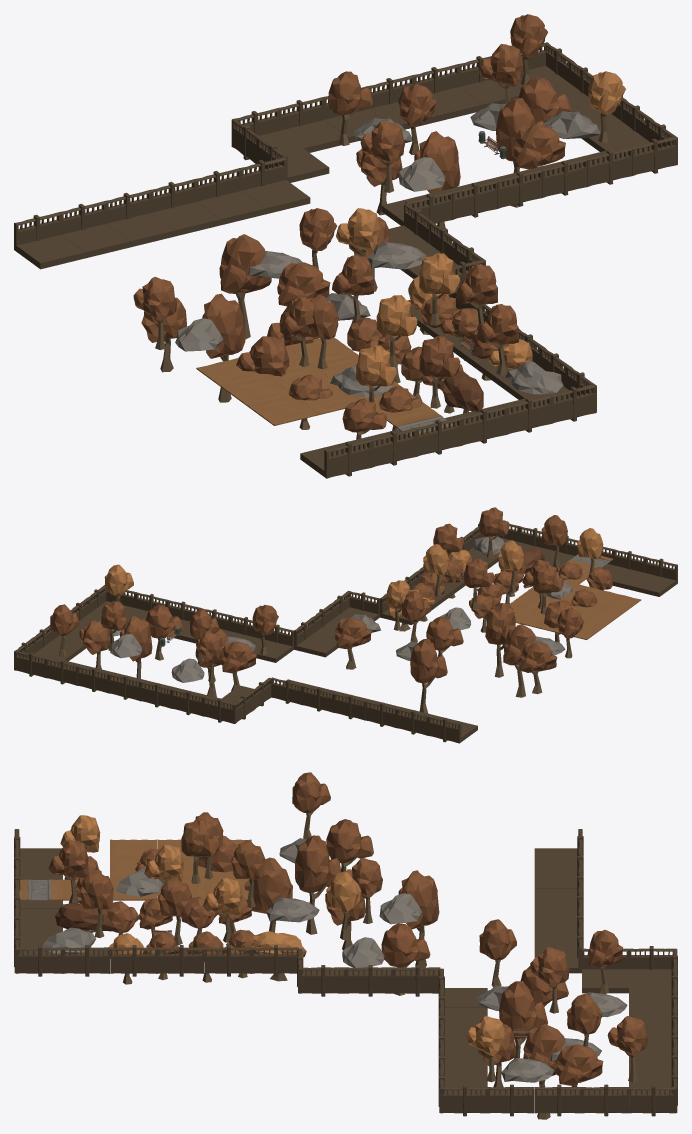
The model's file is PARK.fbx.
The picture shows the model from 3 angles, top to bottom: view 1: azimuth 30°, elevation 25°; view 2: azimuth 150°, elevation 25°; view 3: azimuth 270°, elevation 25°; orthographic projection. The views are drawn at different scales.
Parts seen in each view (by area): view 1: SM_Env_Bridge_Edge_01.041, SM_Env_Tree_03.042, SM_Env_Bridge_Edge_01.038, SM_Env_Bridge_Edge_01.040, SM_Env_Bridge_Edge_01.037, SM_Env_Bridge_Edge_01.026, SM_Env_Bridge_Edge_01.036, SM_Env_Bridge_Edge_01.021, SM_Env_Bridge_Edge_01.017, SM_Env_Tree_03.039, SM_Env_Bridge_Edge_01.042, SM_Env_Tree_03.005 (+71 smaller); view 2: SM_Env_Tree_03.042, SM_Env_Bridge_Edge_01.042, SM_Env_Tree_03.045, SM_Env_Tree_03.039, SM_Env_Tree_03.038, SM_Env_Bridge_Edge_01.008, SM_Env_Tree_03.013, SM_Env_Bridge_Edge_01.039, SM_Env_Tree_03.015, SM_Env_Bridge_Edge_01.006, SM_Env_Tree_03.005, SM_Env_Bridge_Edge_01.041 (+63 smaller); view 3: SM_Env_Tree_03.039, SM_Env_Tree_03.016, SM_Env_Tree_03.013, SM_Env_Tree_03.038, SM_Env_Tree_03.045, SM_Env_Tree_03.042, SM_Env_Tree_03.009, SM_Env_Bridge_Edge_01.025, SM_Env_Tree_03.010, SM_Env_Tree_03.036, SM_Env_Bridge_Edge_01.009, SM_Env_Tree_03.004 (+73 smaller).
Part boxes in pixels (x1,y1,x2,y2): SM_Env_Bridge_Edge_01.041: [14, 212, 85, 269]; SM_Env_Tree_03.042: [219, 234, 271, 339]; SM_Env_Bridge_Edge_01.038: [105, 190, 175, 247]; SM_Env_Bridge_Edge_01.040: [60, 201, 130, 258]; SM_Env_Bridge_Edge_01.037: [149, 179, 220, 236]; SM_Env_Bridge_Edge_01.026: [239, 157, 310, 214]; SM_Env_Bridge_Edge_01.036: [194, 168, 265, 225]; SM_Env_Bridge_Edge_01.021: [277, 97, 348, 152]; SM_Env_Bridge_Edge_01.017: [412, 64, 483, 121]; SM_Env_Tree_03.039: [202, 293, 245, 402]; SM_Env_Bridge_Edge_01.042: [300, 439, 371, 478]; SM_Env_Tree_03.005: [513, 124, 565, 169]; SM_Env_Tree_03.042: [410, 639, 447, 713]; SM_Env_Bridge_Edge_01.042: [628, 557, 677, 596]; SM_Env_Tree_03.045: [485, 603, 515, 677]; SM_Env_Tree_03.039: [503, 624, 535, 697]; SM_Env_Tree_03.038: [519, 642, 557, 693]; SM_Env_Bridge_Edge_01.008: [294, 617, 337, 657]; SM_Env_Tree_03.013: [335, 617, 371, 669]; SM_Env_Bridge_Edge_01.039: [608, 549, 645, 589]; SM_Env_Tree_03.015: [220, 641, 256, 691]; SM_Env_Bridge_Edge_01.006: [252, 624, 293, 662]; SM_Env_Tree_03.005: [146, 604, 183, 660]; SM_Env_Bridge_Edge_01.041: [428, 716, 477, 743]; SM_Env_Tree_03.039: [295, 835, 341, 934]; SM_Env_Tree_03.016: [499, 981, 547, 1058]; SM_Env_Tree_03.013: [381, 923, 430, 995]; SM_Env_Tree_03.038: [326, 819, 373, 872]; SM_Env_Tree_03.045: [244, 857, 292, 932]; SM_Env_Tree_03.042: [398, 870, 439, 967]; SM_Env_Tree_03.009: [555, 1044, 603, 1086]; SM_Env_Bridge_Edge_01.025: [582, 948, 628, 993]; SM_Env_Tree_03.010: [523, 1024, 564, 1119]; SM_Env_Tree_03.036: [181, 819, 218, 883]; SM_Env_Bridge_Edge_01.009: [346, 965, 393, 996]; SM_Env_Tree_03.004: [466, 1016, 506, 1082].
Bounding box in the file's own units: 1354 × 311 × 1407.
